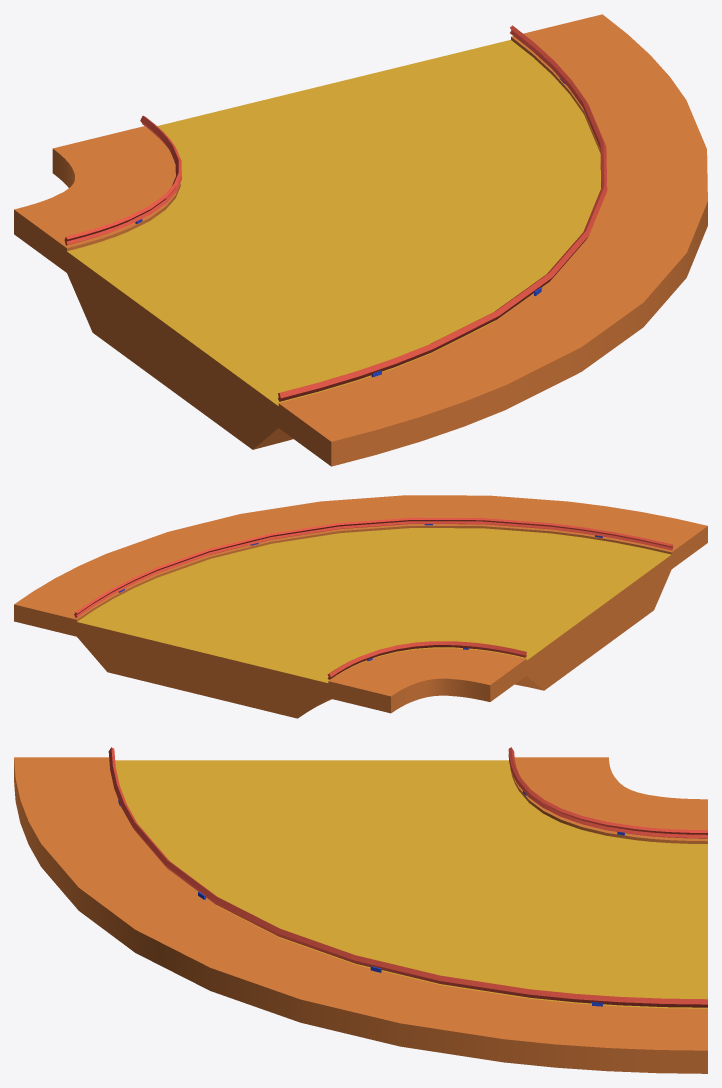
The model's file is BridgeLeftCurveSmallFBX.fbx.
3 renders of one model, top to bottom at view 1: azimuth 30°, elevation 25°; view 2: azimuth 150°, elevation 25°; view 3: azimuth 270°, elevation 25°, orthographic. The views are drawn at different scales.
Visible parts, largest first — view 1: BridgeLeftCurveSmall; view 2: BridgeLeftCurveSmall; view 3: BridgeLeftCurveSmall.
Boxes of the visible parts, left/top/right/bottom form: BridgeLeftCurveSmall: left=14, top=14, right=707, bottom=466; BridgeLeftCurveSmall: left=14, top=495, right=707, bottom=718; BridgeLeftCurveSmall: left=14, top=747, right=707, bottom=1073.
Bounding box in the file's own units: 87.5 × 9.99 × 87.5.
